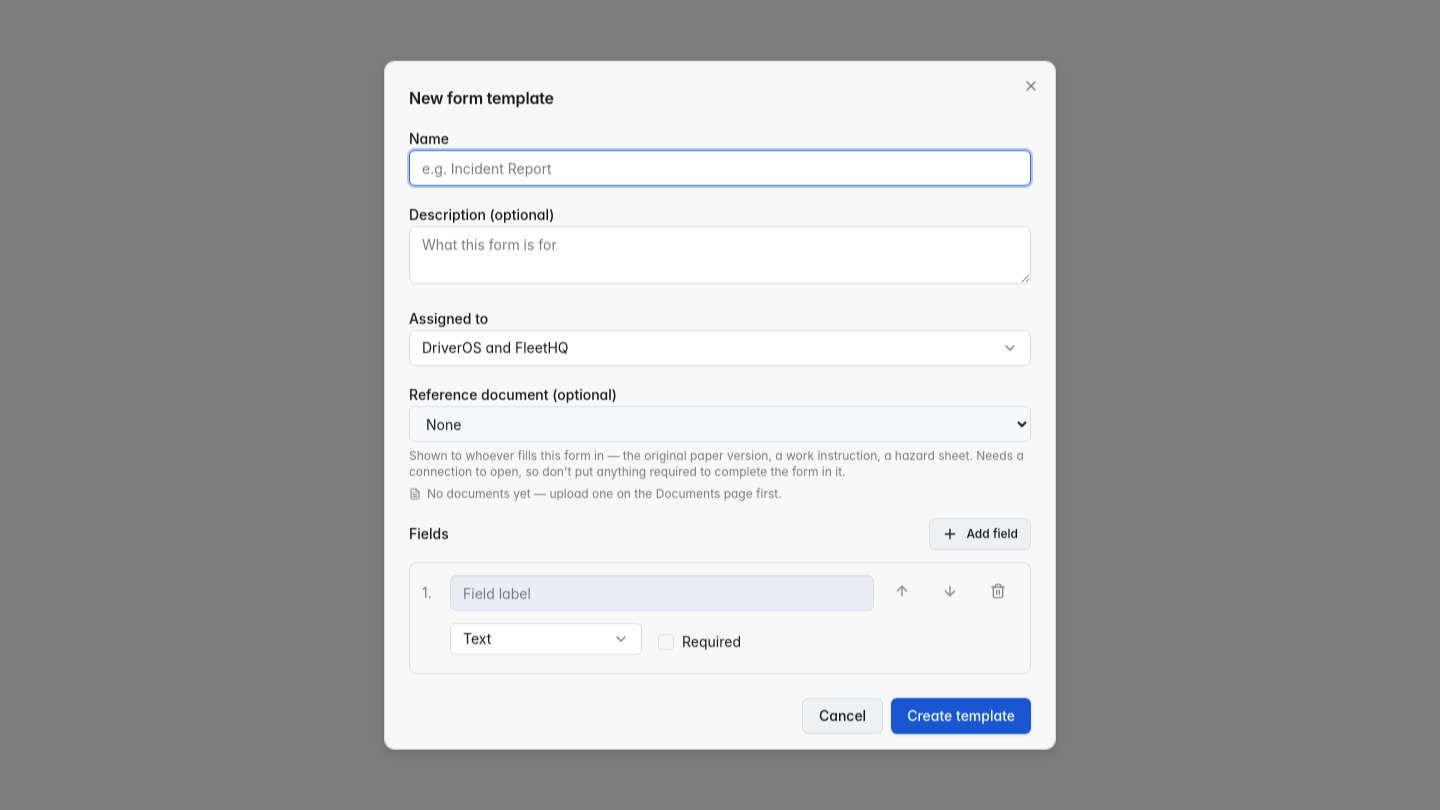
Test case: FormBuilderDialog — POD field types and delivery target › offers photo and signature field types
Click the dropdown labelled "Text" at (546, 639), box [450, 623, 642, 655]
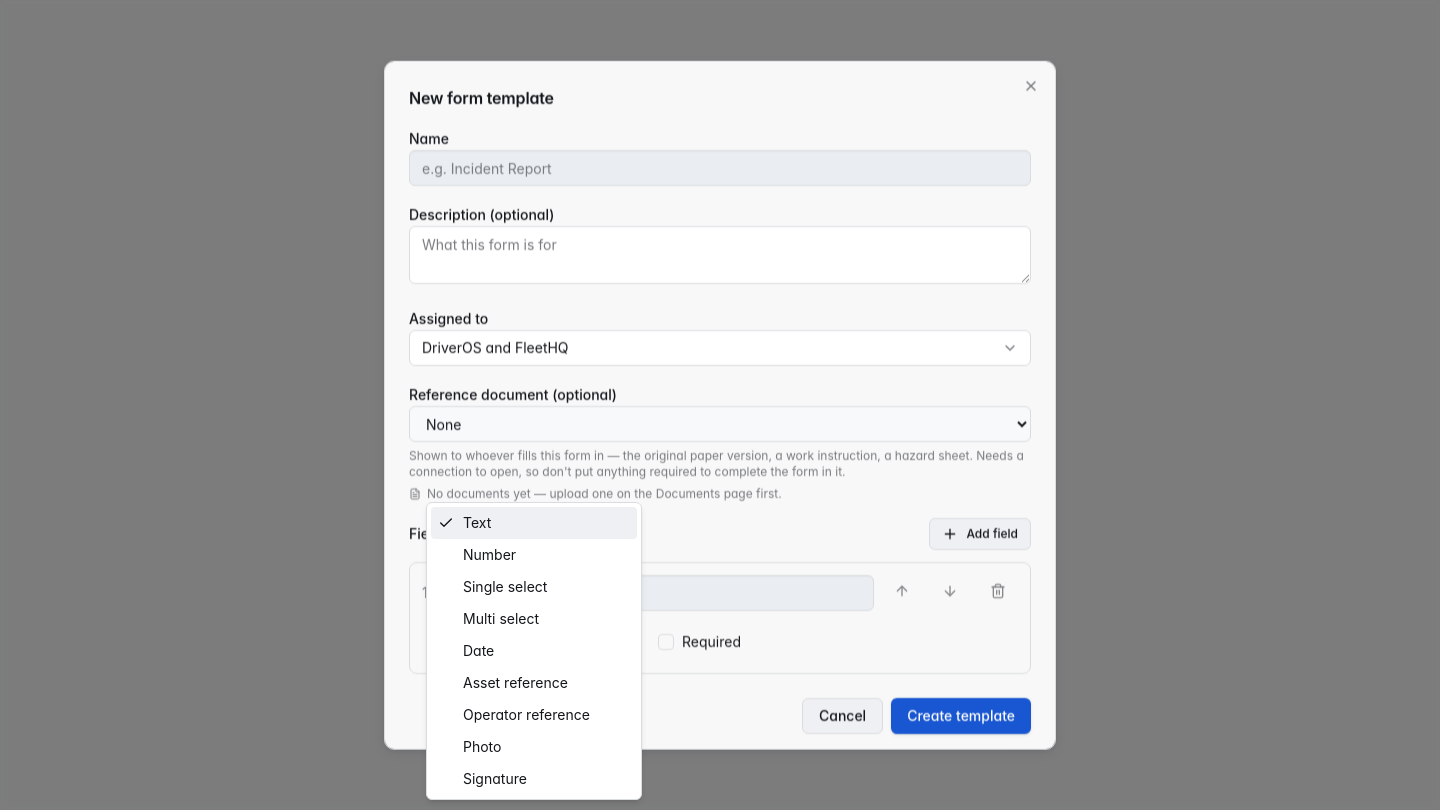
Expected: the option "Photo" is shown, [463, 738, 502, 755]
Expected: the option "Signature" is shown, [463, 770, 527, 787]
